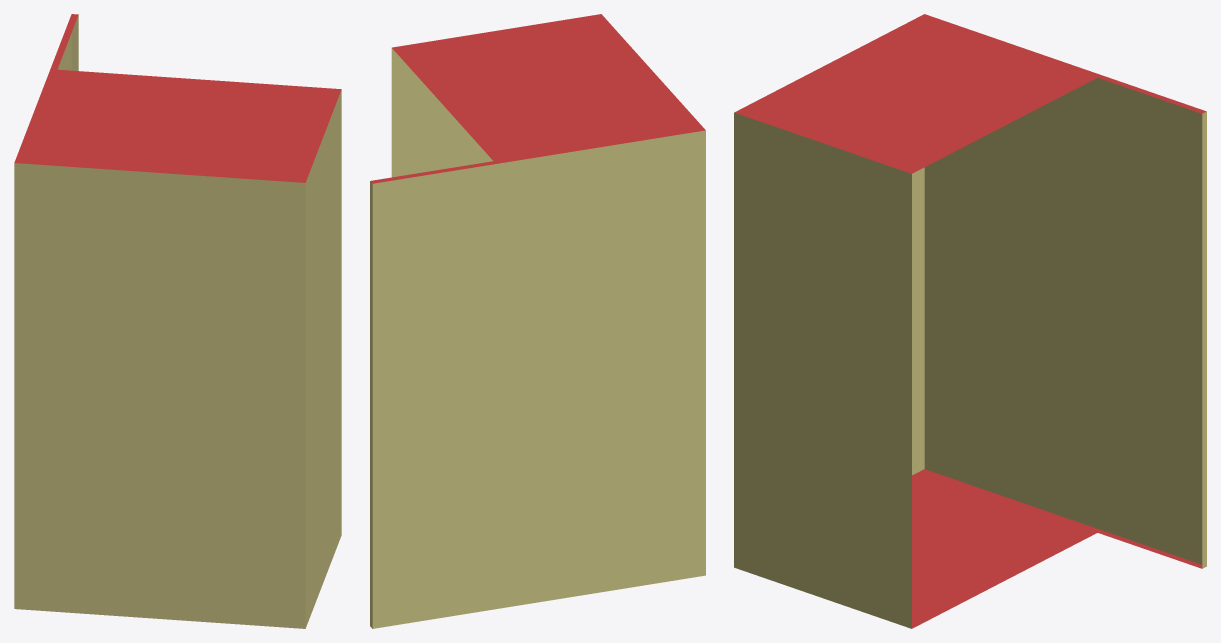
The picture shows the model from 3 angles, left to right: view 1: azimuth 30°, elevation 25°; view 2: azimuth 150°, elevation 25°; view 3: azimuth 270°, elevation 25°; orthographic projection. The views are drawn at different scales.
Visible parts, largest first — view 1: group_4, group_3; view 2: group_4, group_3; view 3: group_4, group_3, group_5.
Boxes of the visible parts, <box> form: group_4: <box>14,15,341,628</box>; group_3: <box>14,14,341,182</box>; group_4: <box>370,48,705,628</box>; group_3: <box>370,14,705,183</box>; group_4: <box>734,77,1206,628</box>; group_3: <box>734,14,1206,173</box>; group_5: <box>912,469,1202,628</box>.
Size of the model in its own units: 5.66 by 7.06 by 7.51.
